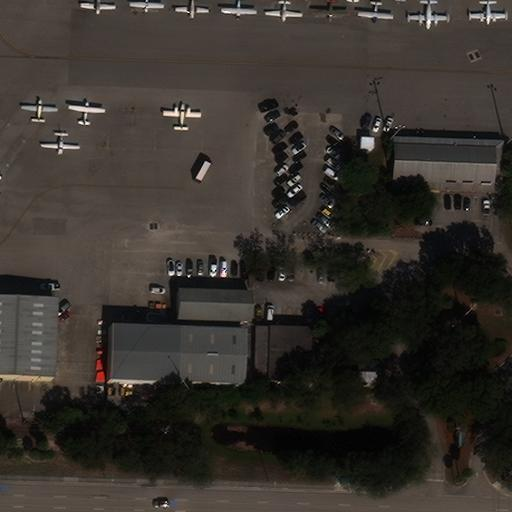Small Civil Transport: (163, 102, 201, 132), (410, 0, 446, 30), (68, 100, 106, 126), (40, 130, 79, 155), (470, 0, 505, 25), (357, 0, 393, 23), (265, 0, 302, 22), (21, 99, 57, 121), (311, 0, 345, 21), (221, 0, 256, 20), (175, 0, 208, 18), (80, 0, 114, 15), (129, 0, 163, 13)
